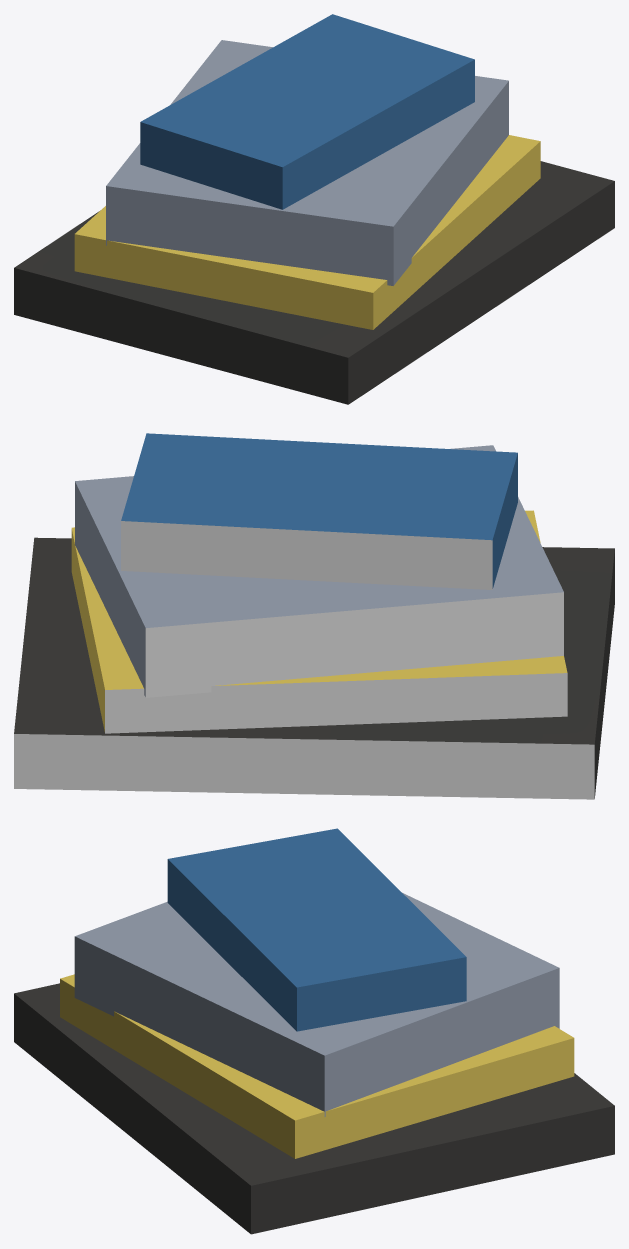
The model's file is books.FBX.
3 renders of one model, top to bottom at view 1: azimuth 30°, elevation 25°; view 2: azimuth 150°, elevation 25°; view 3: azimuth 270°, elevation 25°, orthographic. The views are drawn at different scales.
Parts seen in each view (by area): view 1: books; view 2: books; view 3: books.
Part boxes in pixels (x1=…): books: x1=14, y1=14, x2=614, y2=404; books: x1=14, y1=433, x2=614, y2=799; books: x1=14, y1=828, x2=614, y2=1234.
Size of the model in its own units: 35.09 by 11.25 by 32.7.
